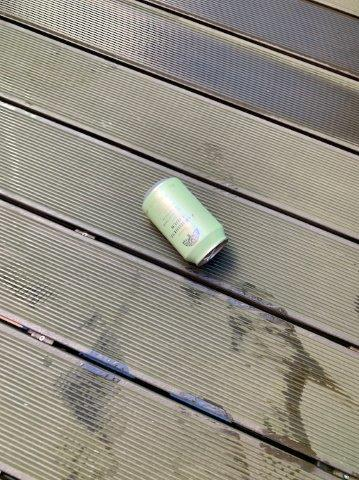kaleng: (143, 179, 228, 265)
